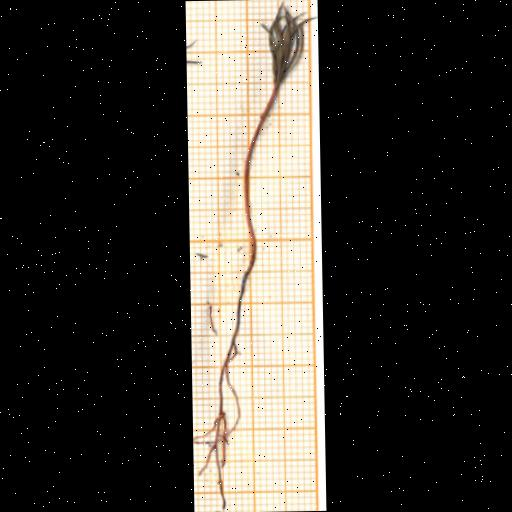flowerPinus: (261, 3, 313, 86)
rootPinus: (198, 251, 255, 509)
stemPinus: (245, 85, 276, 250)
